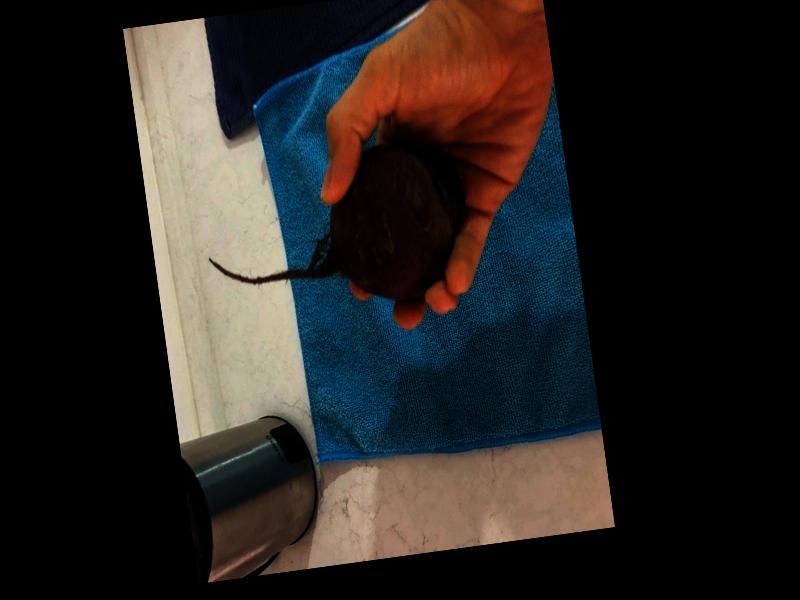Beet: (197, 134, 478, 327)
